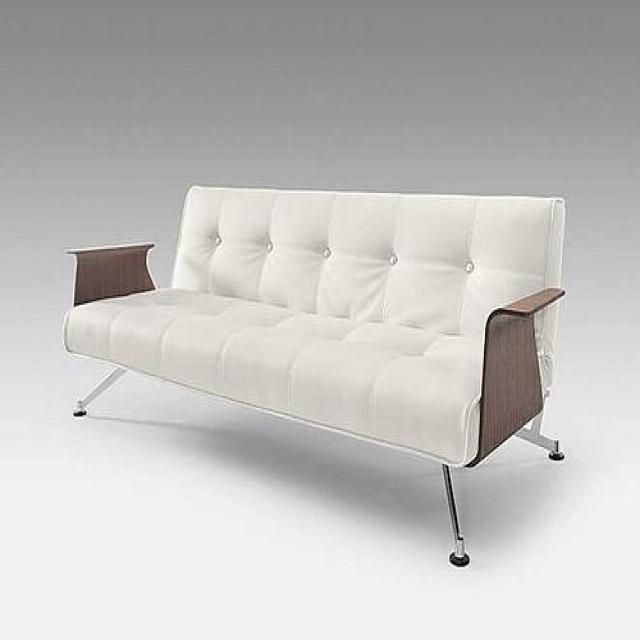sofa: (62, 182, 570, 566)
